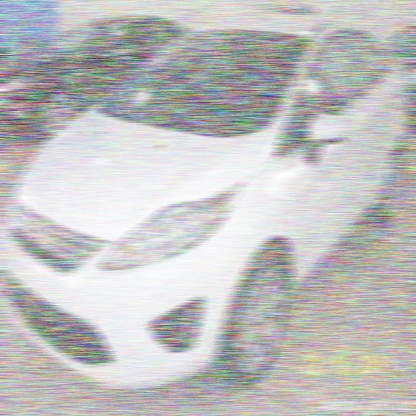Vehicle: (1, 1, 408, 391)
